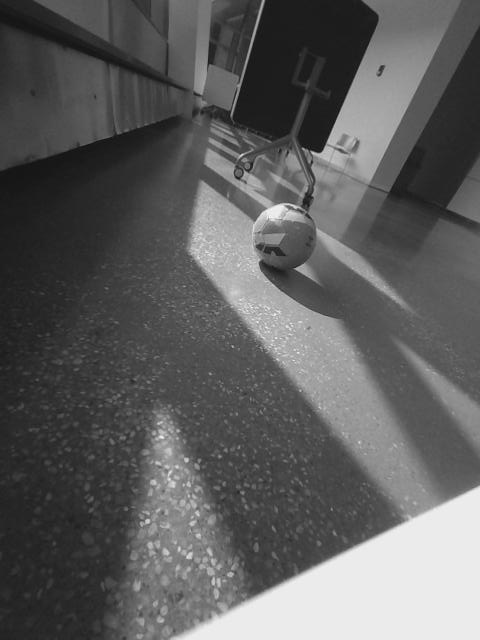ball: (249, 201, 320, 275)
